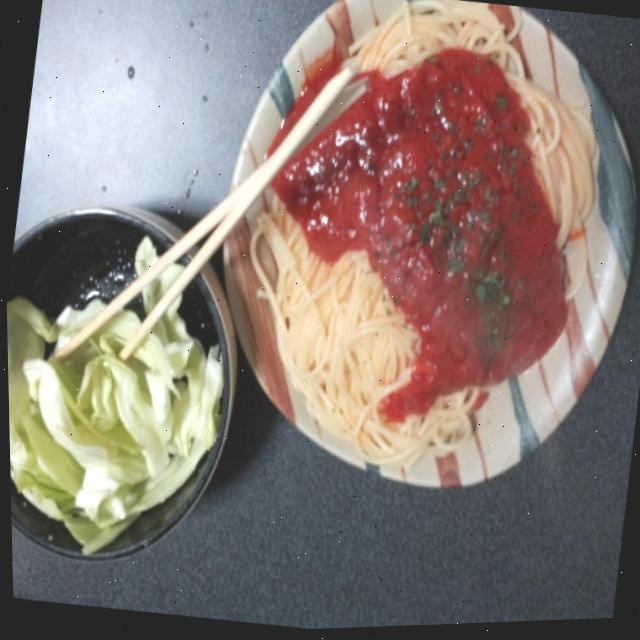蔬菜料理: (3, 138, 220, 574)
